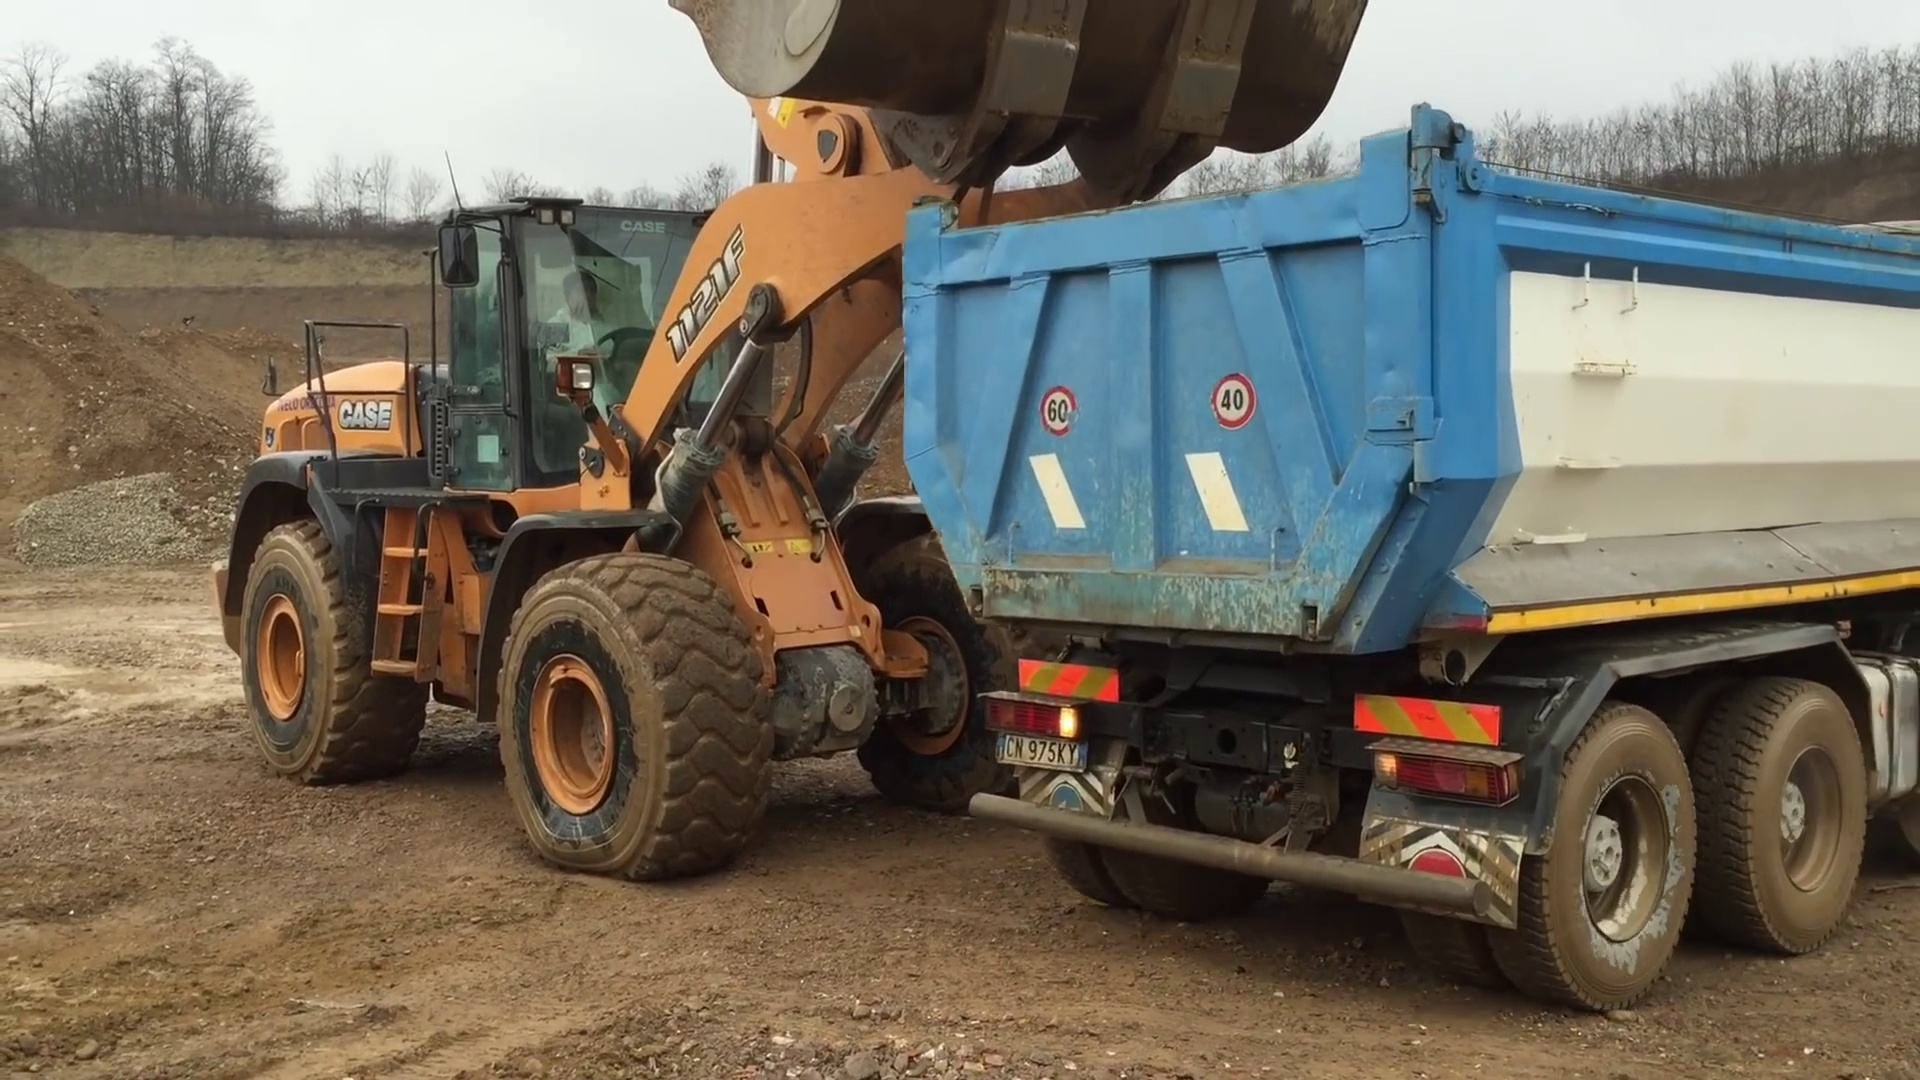truck: (887, 103, 1915, 1005)
wheel loader: (211, 3, 1366, 873)
